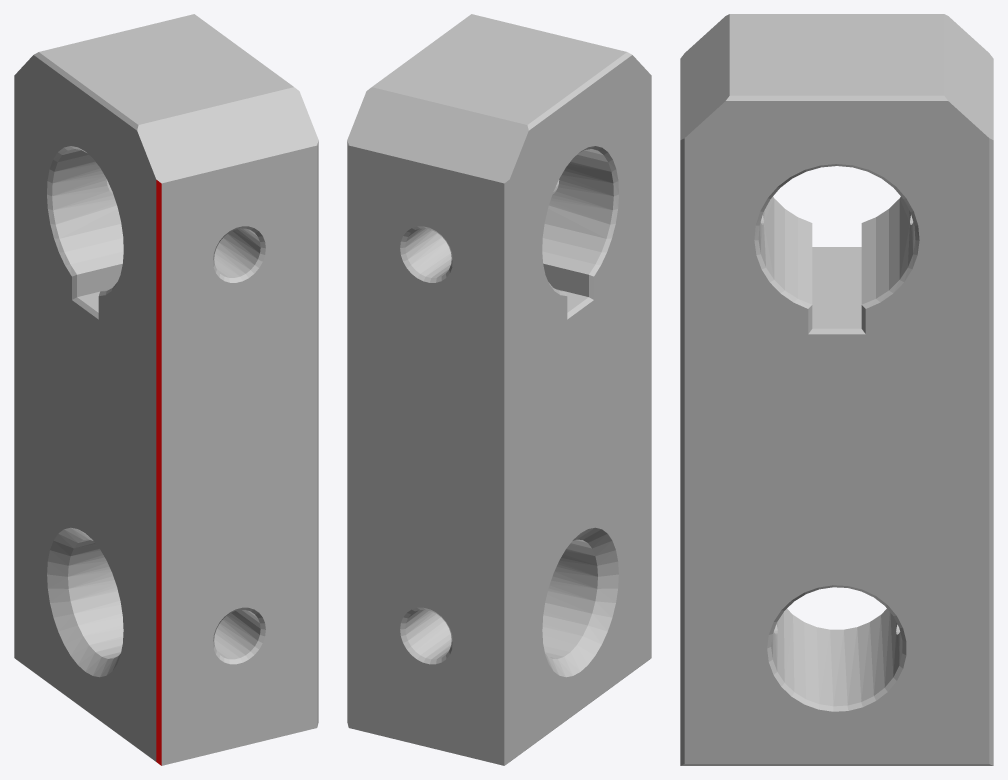
Rendered from 7_stp_34.obj.
3 renders of one model, left to right at view 1: azimuth 30°, elevation 25°; view 2: azimuth 150°, elevation 25°; view 3: azimuth 270°, elevation 25°, orthographic. The views are drawn at different scales.
Visible parts, largest first — view 1: Object1; view 2: Object1; view 3: Object1.
Part boxes in pixels (left/top/right/bottom): Object1: left=14, top=14, right=318, bottom=765; Object1: left=347, top=14, right=651, bottom=765; Object1: left=680, top=14, right=993, bottom=765.
Bounding box in the file's own units: 24.5 × 90 × 38.1.
